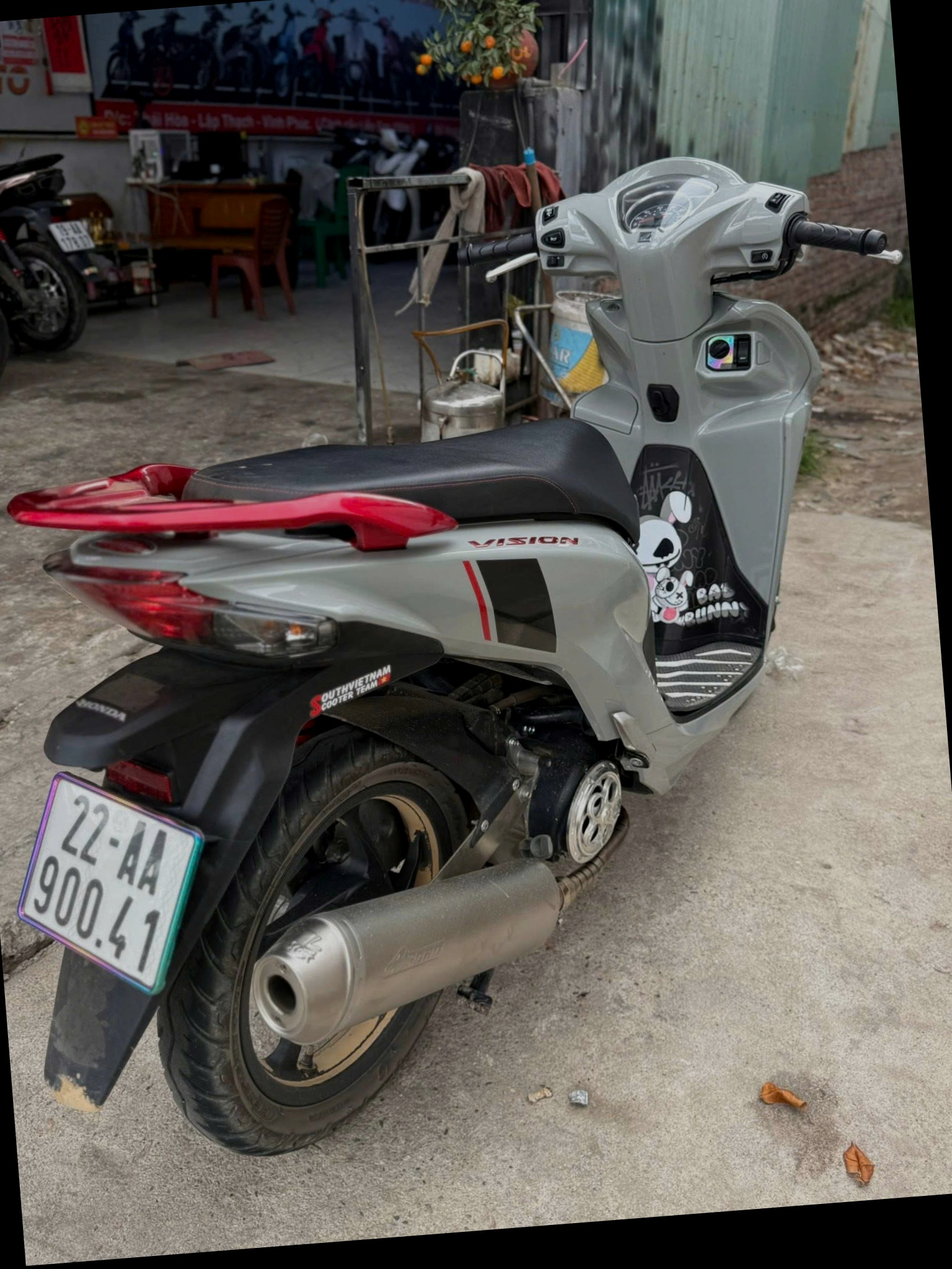Bien-so: (14, 739, 204, 972)
